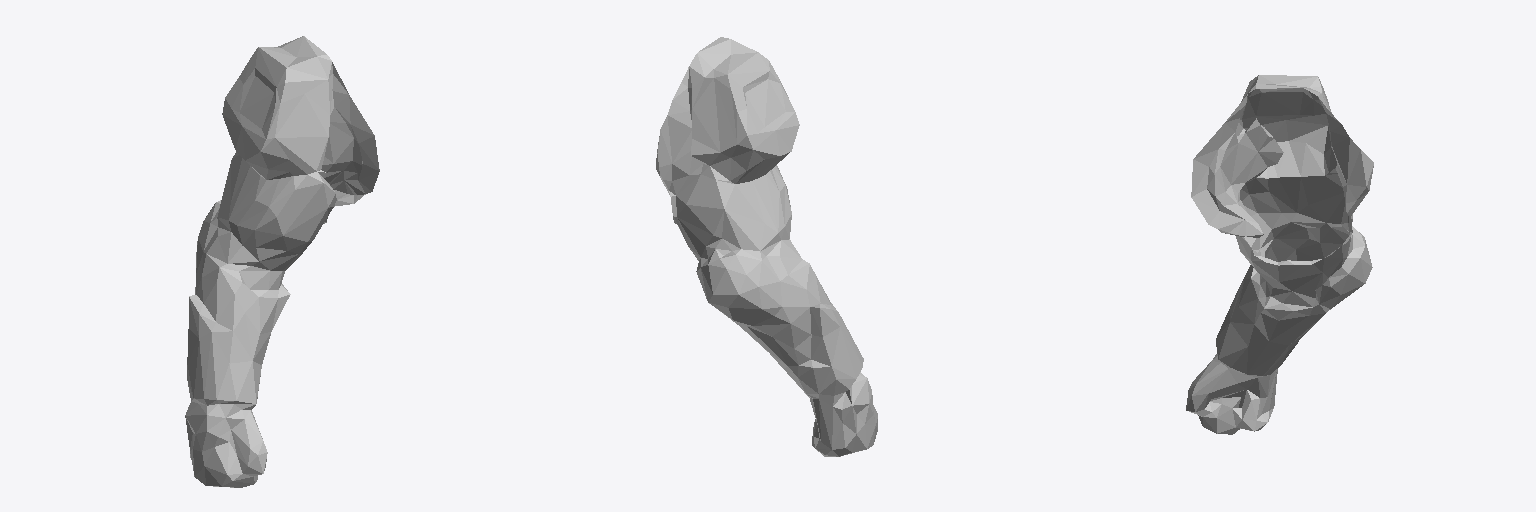
The model's file is Brazo_Der.obj.
3 renders of one model, left to right at view 1: azimuth 30°, elevation 25°; view 2: azimuth 150°, elevation 25°; view 3: azimuth 270°, elevation 25°, orthographic.
Parts seen in each view (by area): view 1: Brazo_Der; view 2: Brazo_Der; view 3: Brazo_Der.
Part boxes in pixels (x1,y1,x2,y2): Brazo_Der: (185,36,379,487); Brazo_Der: (656,37,877,456); Brazo_Der: (1186,75,1373,434).
Bounding box in the file's own units: 0.3162 × 0.7378 × 0.3196.